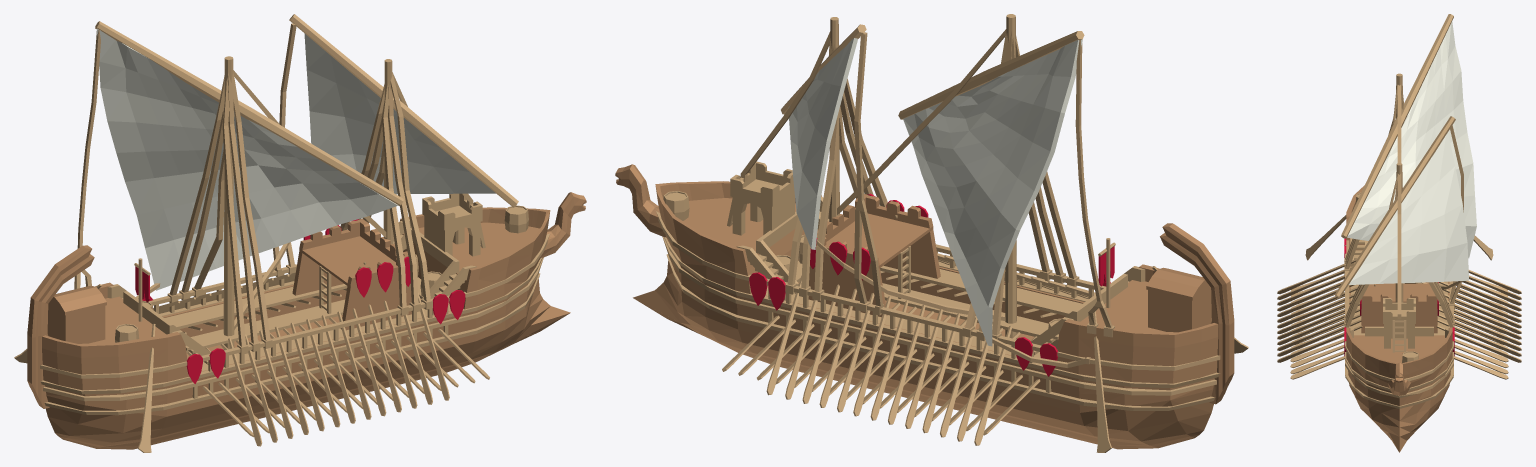
The picture shows the model from 3 angles, left to right: view 1: azimuth 30°, elevation 25°; view 2: azimuth 150°, elevation 25°; view 3: azimuth 270°, elevation 25°; orthographic projection. The views are drawn at different scales.
Parts seen in each view (by area): view 1: Cube.007, Cube.026, Cube.008, Cube.057, Cube.002, Cube.010, Cube.001, Cube.058, Cube.003, Cube.004, Cube.027, Cylinder.003 (+27 smaller); view 2: Cube.026, Cube.007, Cube.002, Cube.001, Cube.010, Cube.003, Cube.008, Cube.004, Cube.058, Cube.027, Cube.055, Cube.006 (+31 smaller); view 3: Cube.008, Cube.007, Cube.001, Cube.026, Cube.010, Cylinder.003, Cylinder.001, Cube.003, Cube.058, Cube.004, Cube.009, Cube.048 (+26 smaller).
Boxes of the visible parts, x1,y1,x2,y2 form: Cube.007: (97,29,398,290); Cube.026: (45,275,570,449); Cube.008: (304,33,495,194); Cube.057: (167,72,272,354); Cube.002: (42,282,189,390); Cube.010: (292,218,411,330); Cube.001: (400,207,550,309); Cube.058: (340,73,432,315); Cube.003: (40,233,550,394); Cube.004: (43,257,543,415); Cube.027: (164,277,450,371); Cylinder.003: (95,21,403,206); Cube.026: (633,260,1214,449); Cube.007: (903,39,1082,346); Cube.002: (1055,264,1218,383); Cube.001: (655,181,821,293); Cube.010: (808,194,940,317); Cube.003: (656,211,1220,387); Cube.008: (788,38,857,249); Cube.004: (662,236,1216,410); Cube.058: (785,38,887,300); Cube.027: (765,261,1082,357); Cube.055: (1160,223,1234,404); Cube.006: (1146,267,1211,332); Cube.008: (1349,132,1468,284); Cube.007: (1347,21,1476,258); Cube.001: (1346,328,1452,387); Cube.026: (1348,266,1450,452); Cube.010: (1361,283,1437,333); Cylinder.003: (1341,14,1453,238); Cylinder.001: (1334,116,1455,297); Cube.003: (1345,240,1453,391); Cube.058: (1344,175,1454,332); Cube.004: (1345,359,1453,408); Cube.009: (1350,238,1448,337); Cube.048: (1397,173,1401,319).
Size of the model in its own units: 177728 by 122905 by 90218.
